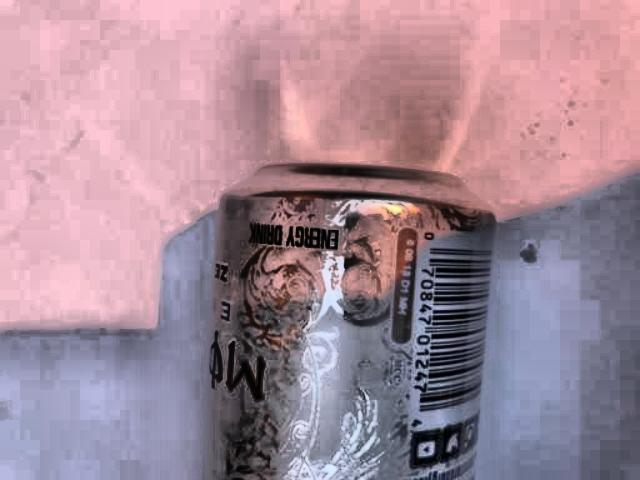Bottles: (186, 144, 511, 480)
